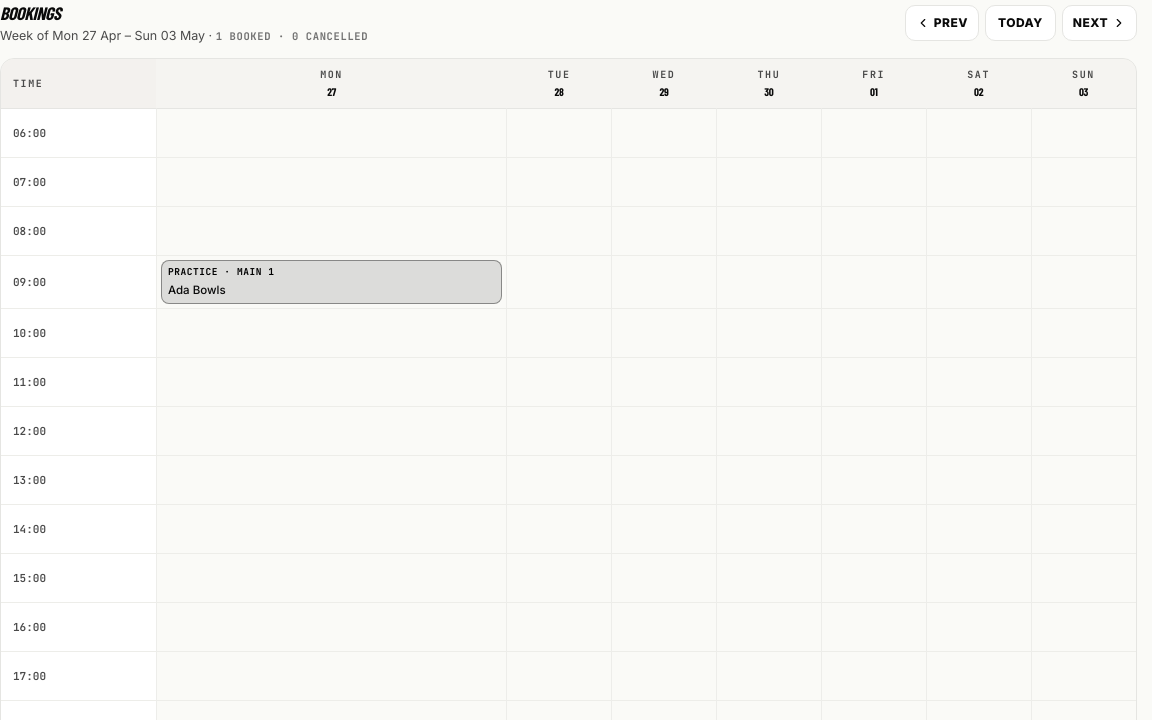
Test: <BookingsCalendarGrid /> — chip click opens BookingDetailSheet › clicking a booking chip portals the sheet content into document
Click the button "Practice · Main 1 Ada Bowls".
click(193, 272)  # box [161,260,502,304]
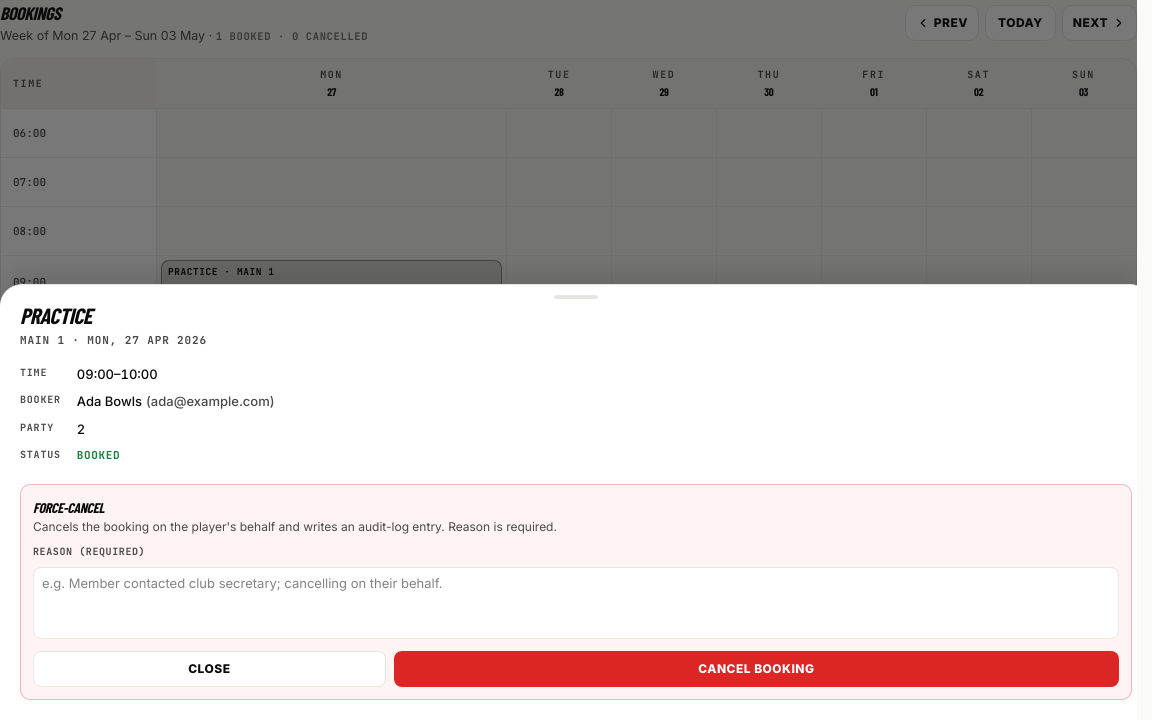
Expected: the dialog is shown
